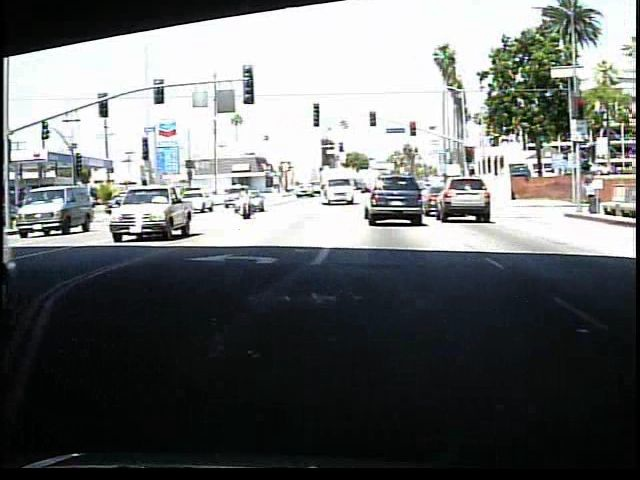person: (236, 185, 254, 220)
